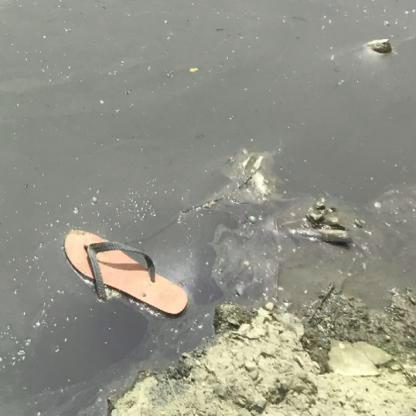Trash: (48, 228, 197, 320)
